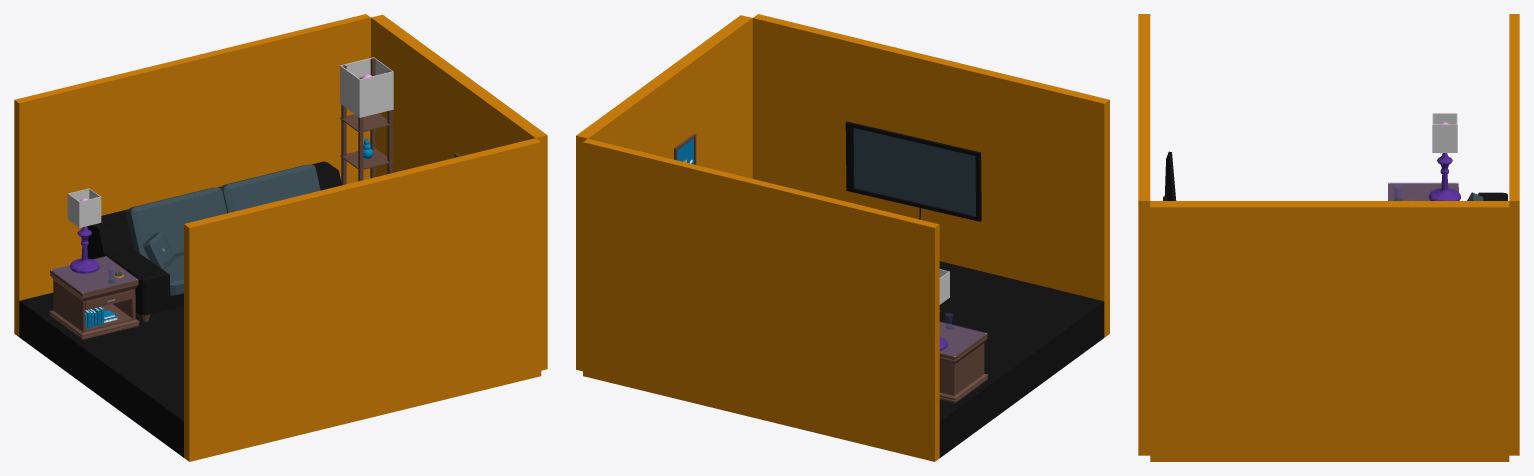
3 renders of one model, left to right at view 1: azimuth 30°, elevation 25°; view 2: azimuth 150°, elevation 25°; view 3: azimuth 270°, elevation 25°, orthographic. The views are drawn at different scales.
Parts seen in each view (by area): view 1: node_MeshObject690842496-PolyPaper2, node_MeshObject1029071040-PolyPaper22, node_MeshObject-2095731264-PolyPaper22, node_MeshObject-931479040-PolyPaper22, node_MeshObject910848064-PolyGlass24; view 2: node_MeshObject690842496-PolyPaper2, node_MeshObject1029071040-PolyPaper22, node_MeshObject-2095731264-PolyPaper22, node_MeshObject910848064-PolyGlass24; view 3: node_MeshObject690842496-PolyPaper2, node_MeshObject910848064-PolyGlass24, node_MeshObject-2095731264-PolyPaper22, node_MeshObject1029071040-PolyPaper22.
Part boxes in pixels (left/top/right/bottom): node_MeshObject690842496-PolyPaper2: left=14, top=14, right=547, bottom=461; node_MeshObject1029071040-PolyPaper22: left=85, top=70, right=392, bottom=322; node_MeshObject-2095731264-PolyPaper22: left=49, top=161, right=341, bottom=339; node_MeshObject-931479040-PolyPaper22: left=340, top=57, right=393, bottom=185; node_MeshObject910848064-PolyGlass24: left=50, top=256, right=138, bottom=293; node_MeshObject690842496-PolyPaper2: left=576, top=14, right=1109, bottom=461; node_MeshObject1029071040-PolyPaper22: left=845, top=121, right=981, bottom=221; node_MeshObject-2095731264-PolyPaper22: left=939, top=322, right=988, bottom=402; node_MeshObject910848064-PolyGlass24: left=940, top=313, right=986, bottom=356; node_MeshObject690842496-PolyPaper2: left=1138, top=14, right=1519, bottom=461; node_MeshObject910848064-PolyGlass24: left=1388, top=182, right=1458, bottom=200; node_MeshObject-2095731264-PolyPaper22: left=1388, top=183, right=1458, bottom=200; node_MeshObject1029071040-PolyPaper22: left=1163, top=151, right=1507, bottom=200.
Size of the model in its own units: 3.05 by 1.87 by 2.54.
